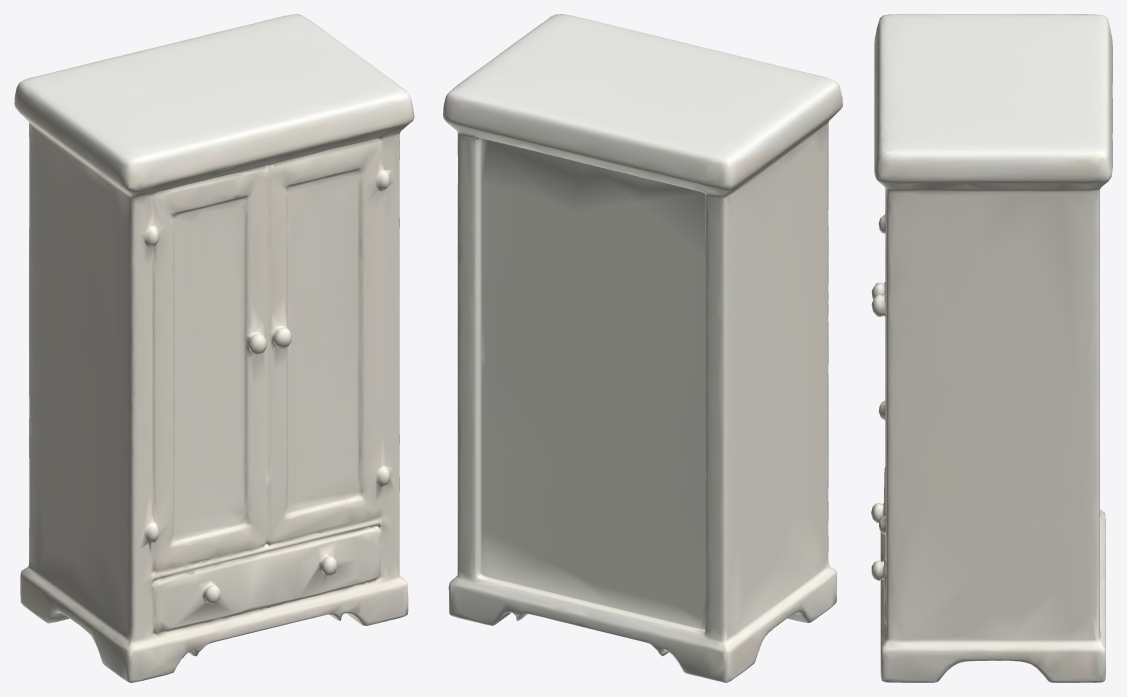
The model's file is White_wardrobe.glb.
3 renders of one model, left to right at view 1: azimuth 30°, elevation 25°; view 2: azimuth 150°, elevation 25°; view 3: azimuth 270°, elevation 25°, orthographic.
Parts seen in each view (by area): view 1: Mesh_0; view 2: Mesh_0; view 3: Mesh_0.
Part boxes in pixels (left/top/right/bottom): Mesh_0: left=14, top=14, right=414, bottom=682; Mesh_0: left=443, top=14, right=842, bottom=682; Mesh_0: left=871, top=14, right=1112, bottom=682.
Bounding box in the file's own units: 1.1 × 1.9 × 0.7823.
Materials: 1 (1 with a texture image).
